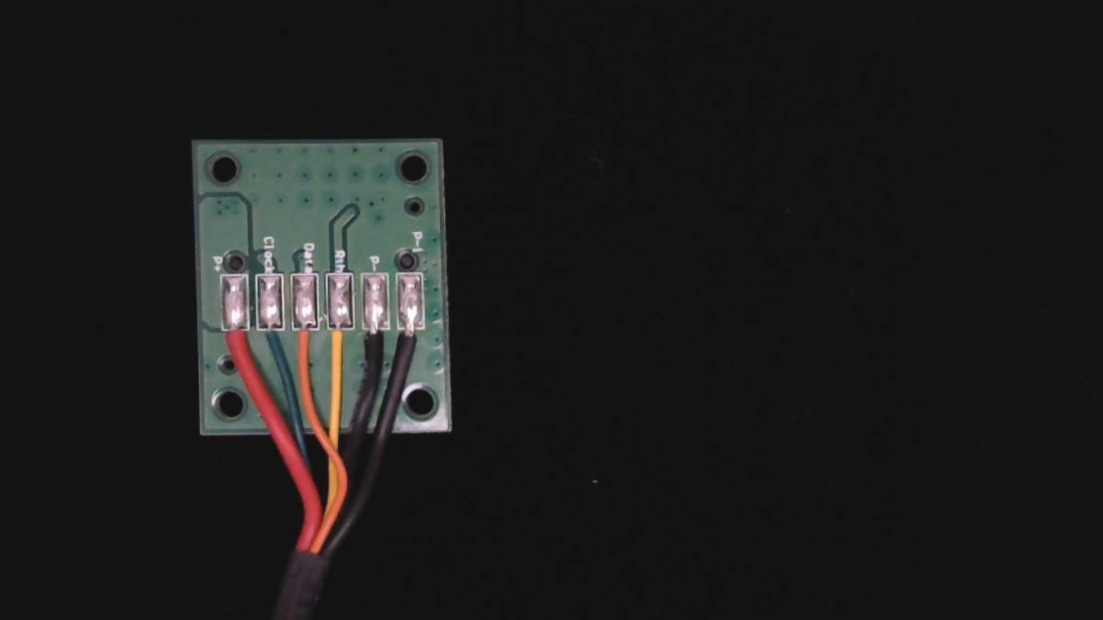Black: (353, 316, 380, 373)
Black1: (389, 317, 418, 375)
Green: (251, 312, 279, 367)
Orange: (285, 314, 312, 368)
Red: (217, 313, 246, 374)
Yellow: (321, 315, 345, 375)
